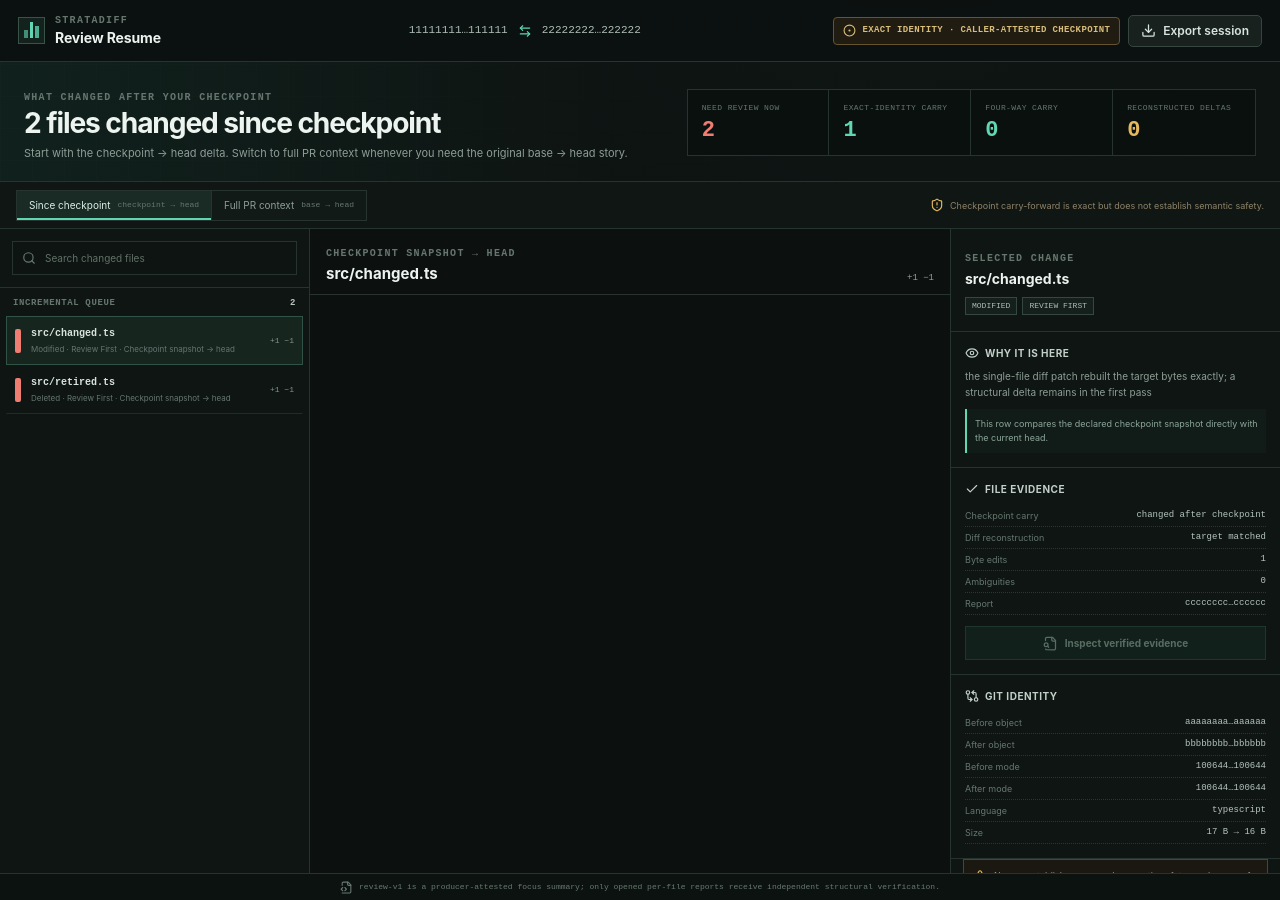
Scenario: Evidence Workbench › does not claim snapshots match when search or filters hide real changes
Expected: the heading "2 files changed since checkpoint" is shown, [24,106,440,140]
Type "not-present" into the field named "Search files" at coordinates (165, 258), box [43,251,287,265]
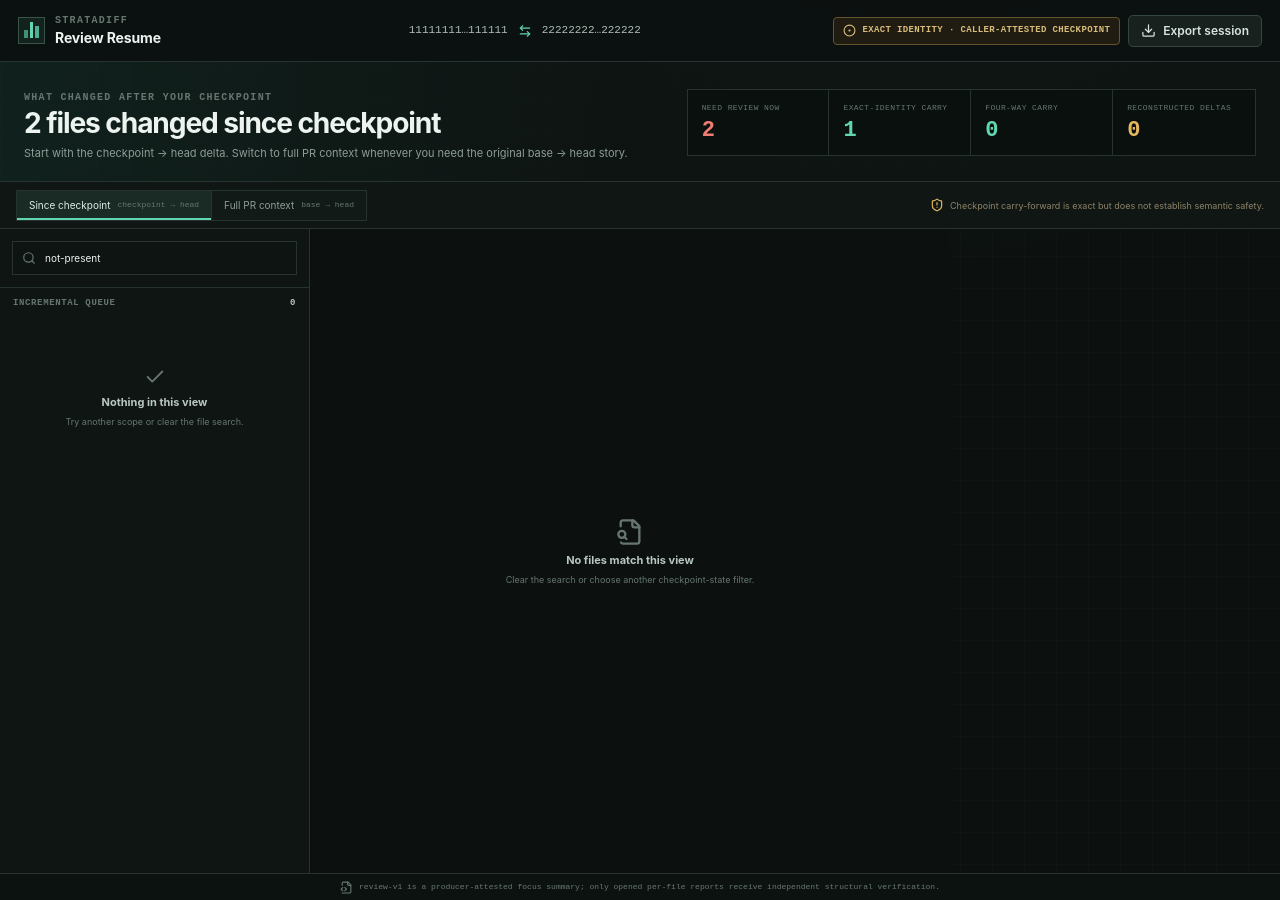
Expected: the text "No files match this view" is shown, [566,552,694,566]
